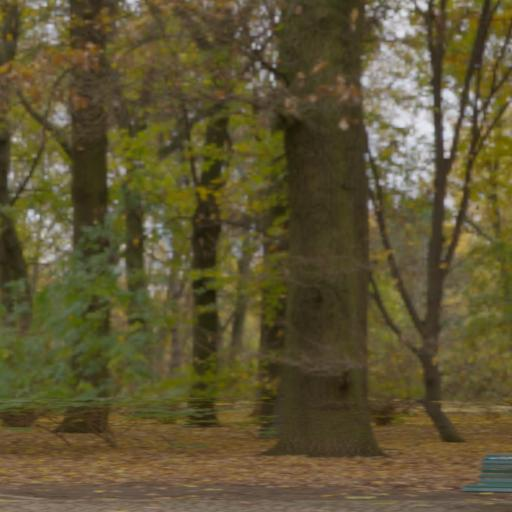nothing: (6, 1, 512, 512)
